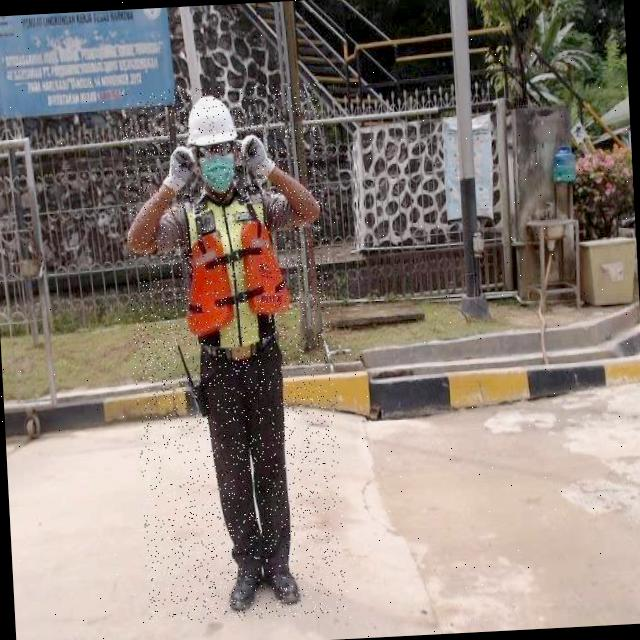boots: (226, 553, 268, 616), (264, 555, 304, 610)
helmet: (185, 90, 239, 150)
vest: (182, 190, 294, 348)
